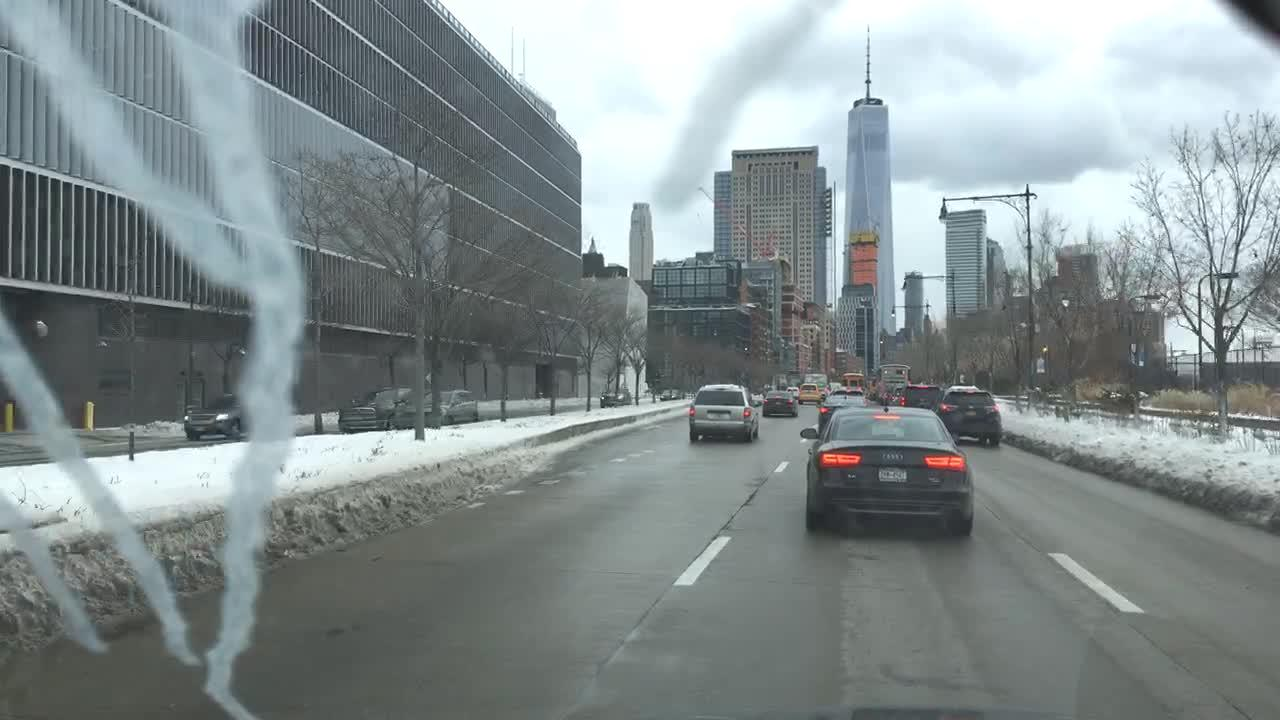Audi: (877, 448, 911, 463)
